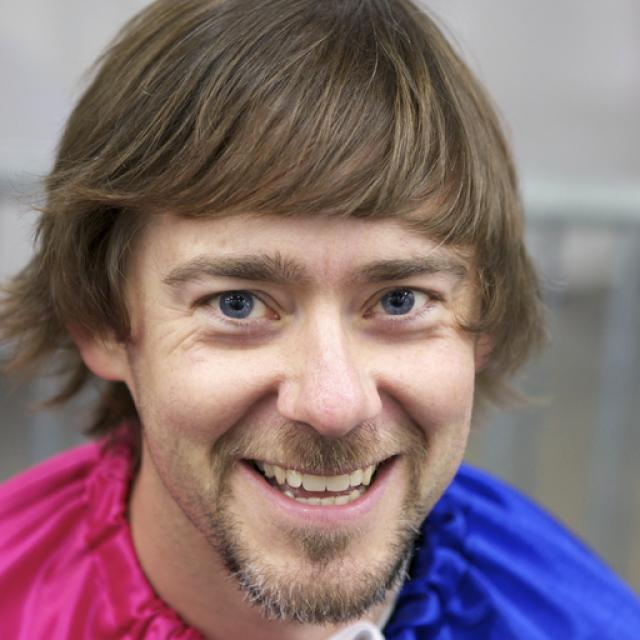happy: (125, 135, 478, 620)
